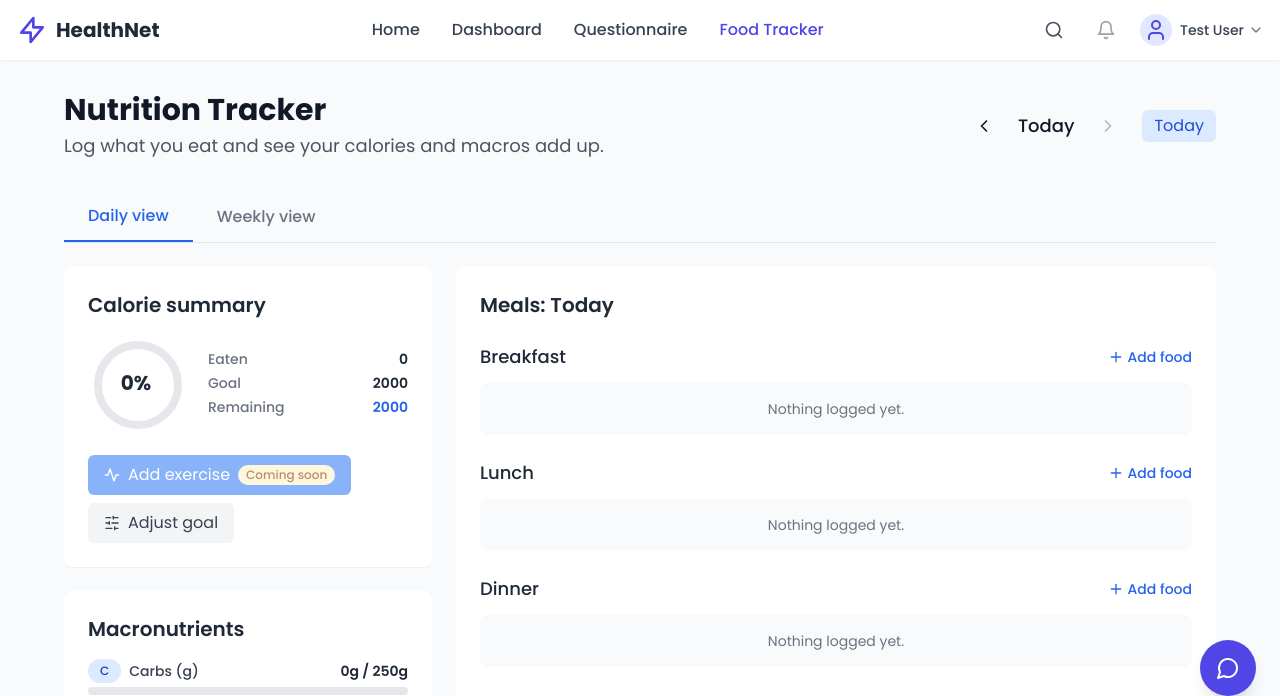
Test: foods are searched, portioned and logged to the right meal
Click the button with aria-label "Add food to Breakfast": (1150, 357) [1108,347,1192,367]
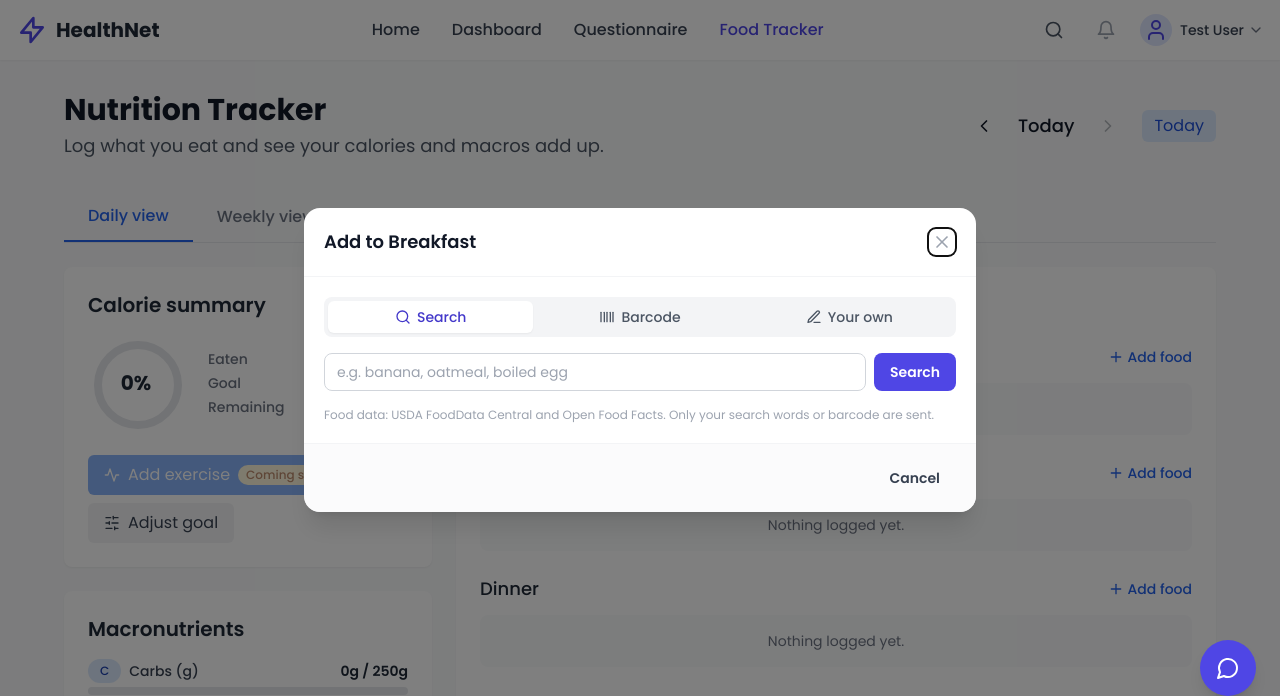
In the field named "Search foods": (595, 372) [324,353,866,391], type "banana"
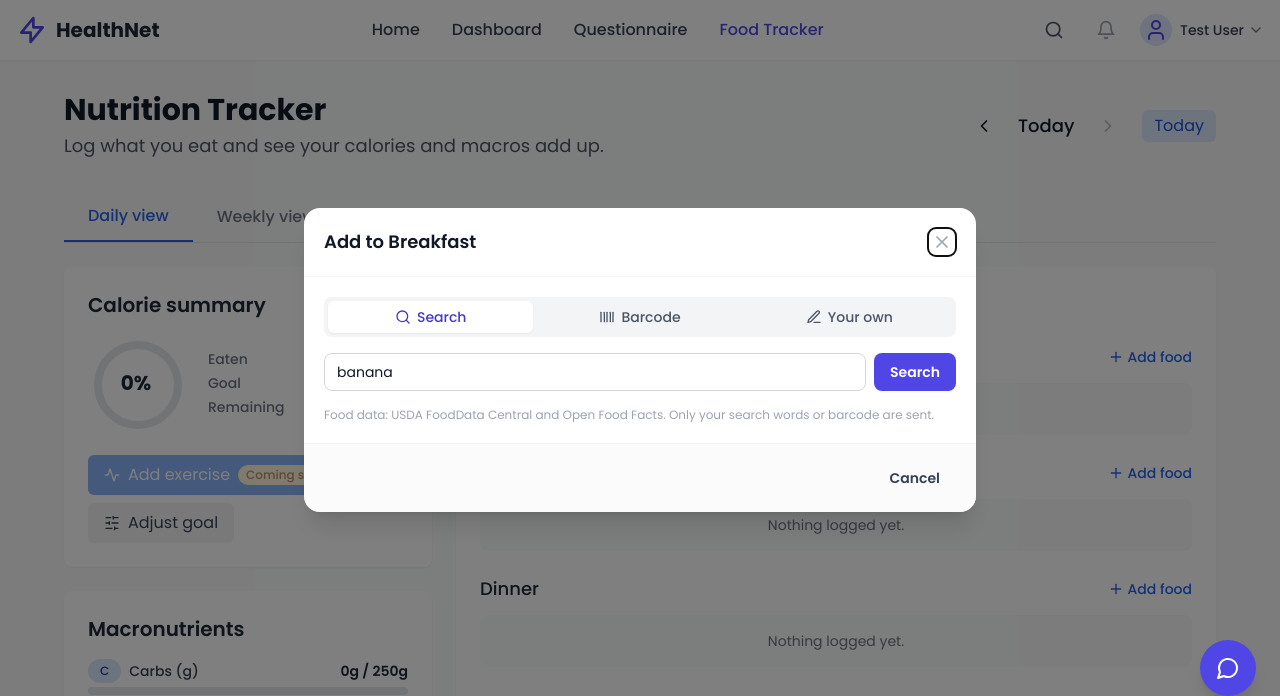
Click the button "Search": (915, 372) [874,353,956,391]
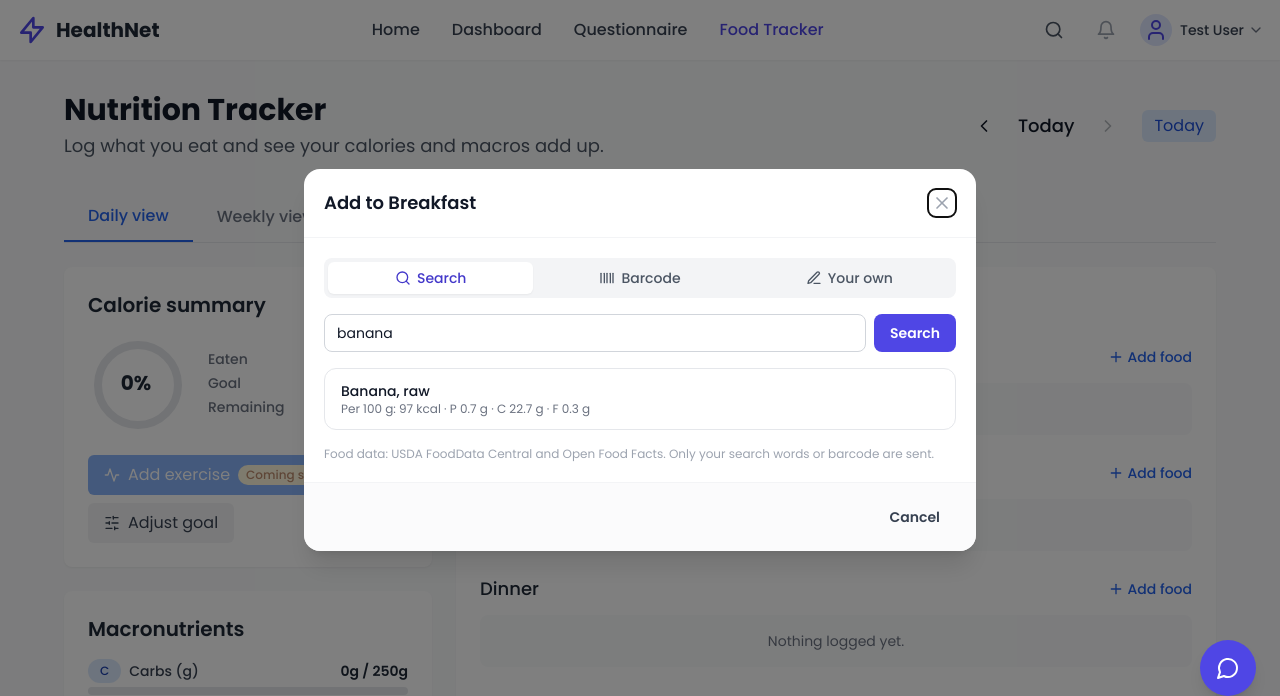
Click the button "Banana, raw": (385, 391) [325,369,955,429]
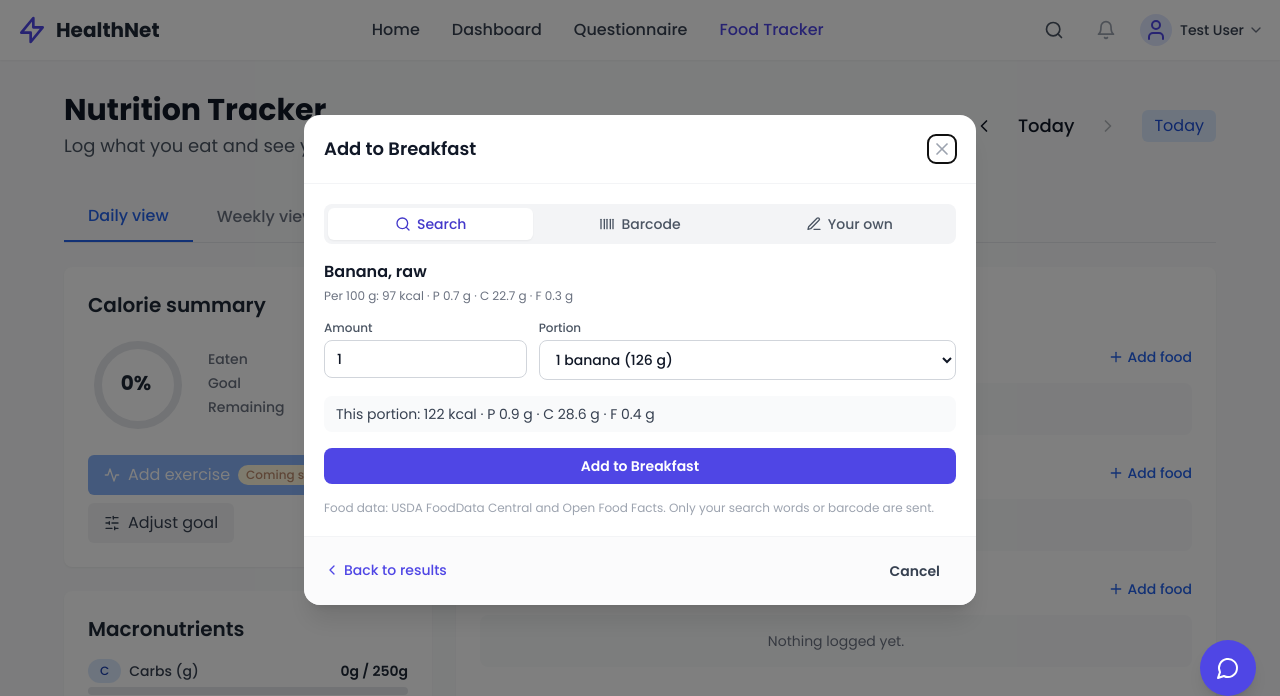
Replace the text in the number field labelled "Amount" with "2": (425, 359) [324,340,527,378]
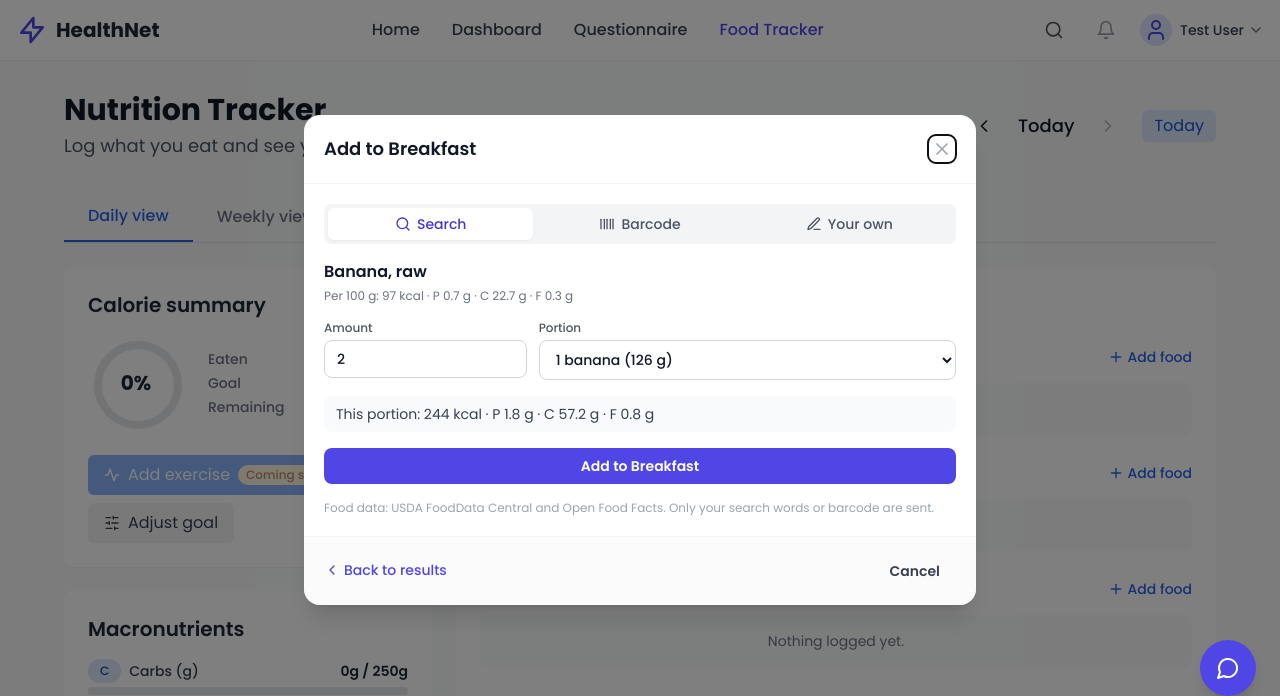
expect the text "This portion: 244 kcal · P 1.8 g · C 57.2 g · F 0.8 g" is shown: met, box [324,396,956,432]
Click the button "Add to Breakfast": (640, 466) [324,448,956,484]
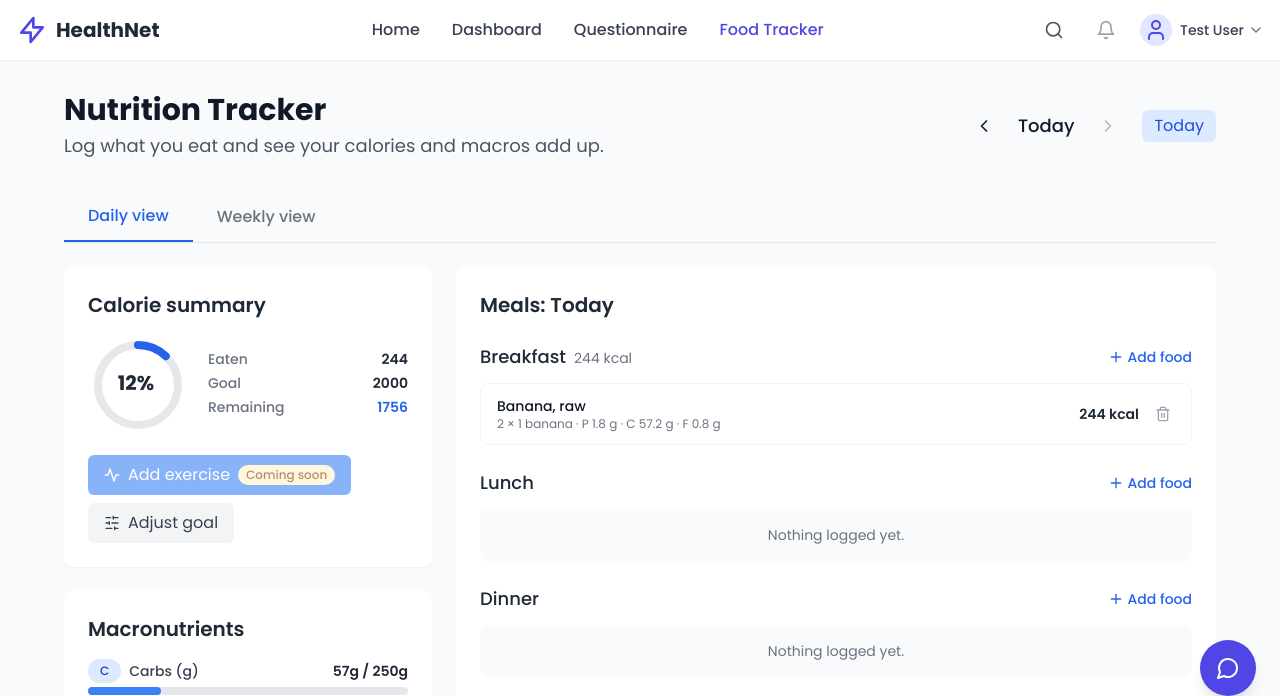
expect the text "Banana, raw" is shown: met, box [497,396,586,416]
expect the text "2 × 1 banana · P 1.8 g · C 57.2 g · F 0.8 g" is shown: met, box [497,415,721,432]
expect the text with test id "calories-consumed" reads "244": met, box [382,349,408,369]
